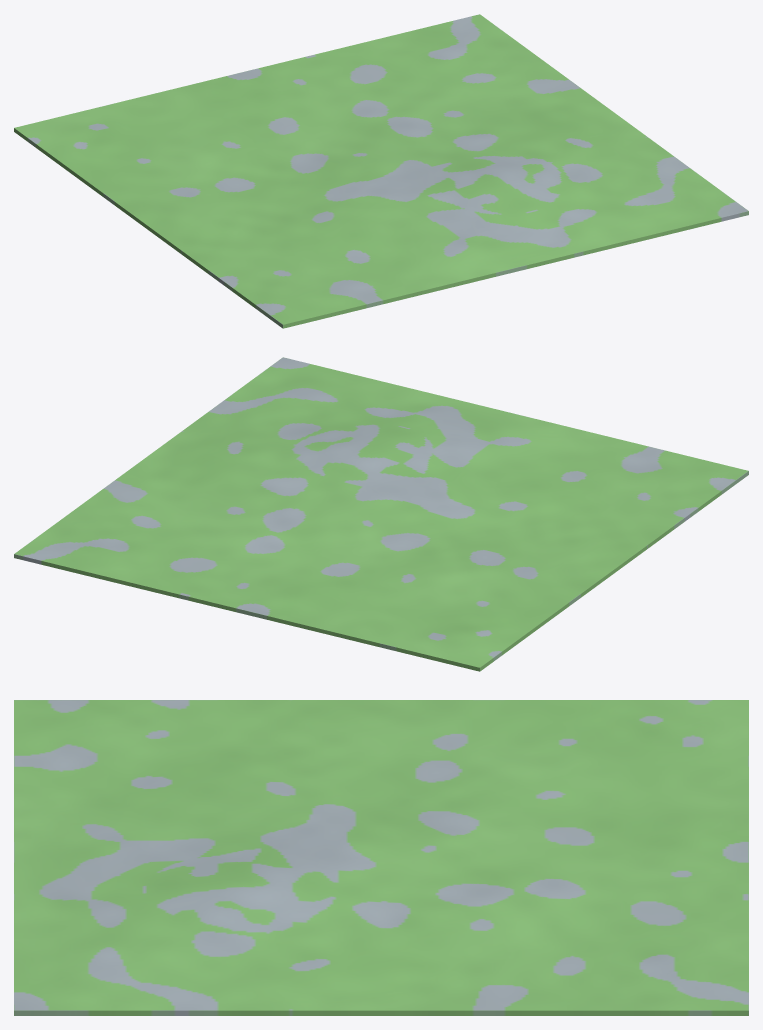
File: Grass_RockyGround_10.obj
3 views of the same model, one above another, from view 1: azimuth 30°, elevation 25°; view 2: azimuth 150°, elevation 25°; view 3: azimuth 270°, elevation 25° (orthographic). The views are drawn at different scales.
Bounding box in the file's own units: 10 × 0.2988 × 10.
Materials: 1 (1 with a texture image).
